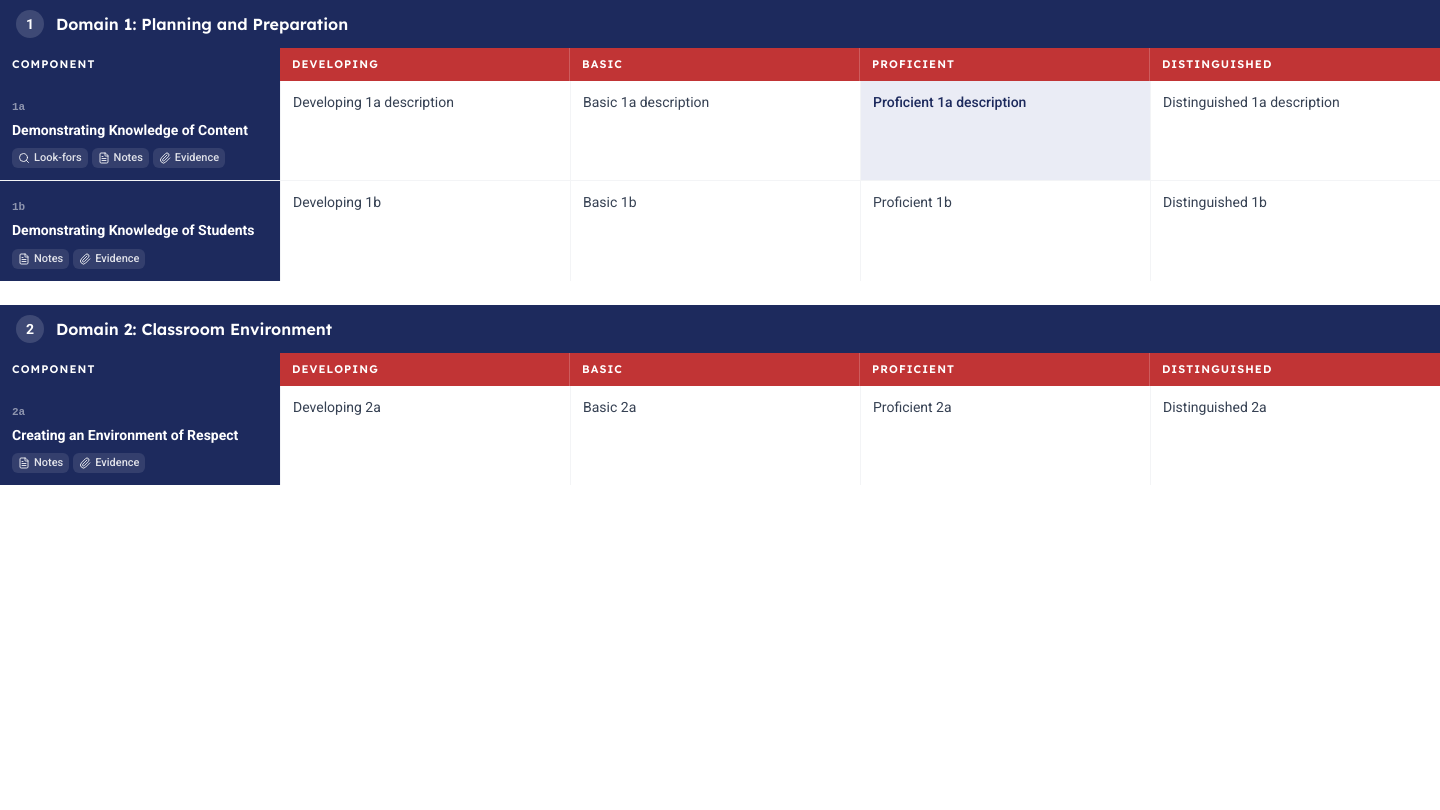
<RubricGrid> edit mode › readOnly exposes no interactive proficiency control and disables look-fors
Expected: the element named "Demonstrating Knowledge of Content proficiency rating: Proficient" is shown, [280, 80, 1439, 180]
Expected: the element named "Demonstrating Knowledge of Students proficiency rating: Not rated" is shown, [280, 181, 1439, 281]
Click the button "Look-fors" at (50, 158), box [12, 148, 88, 168]
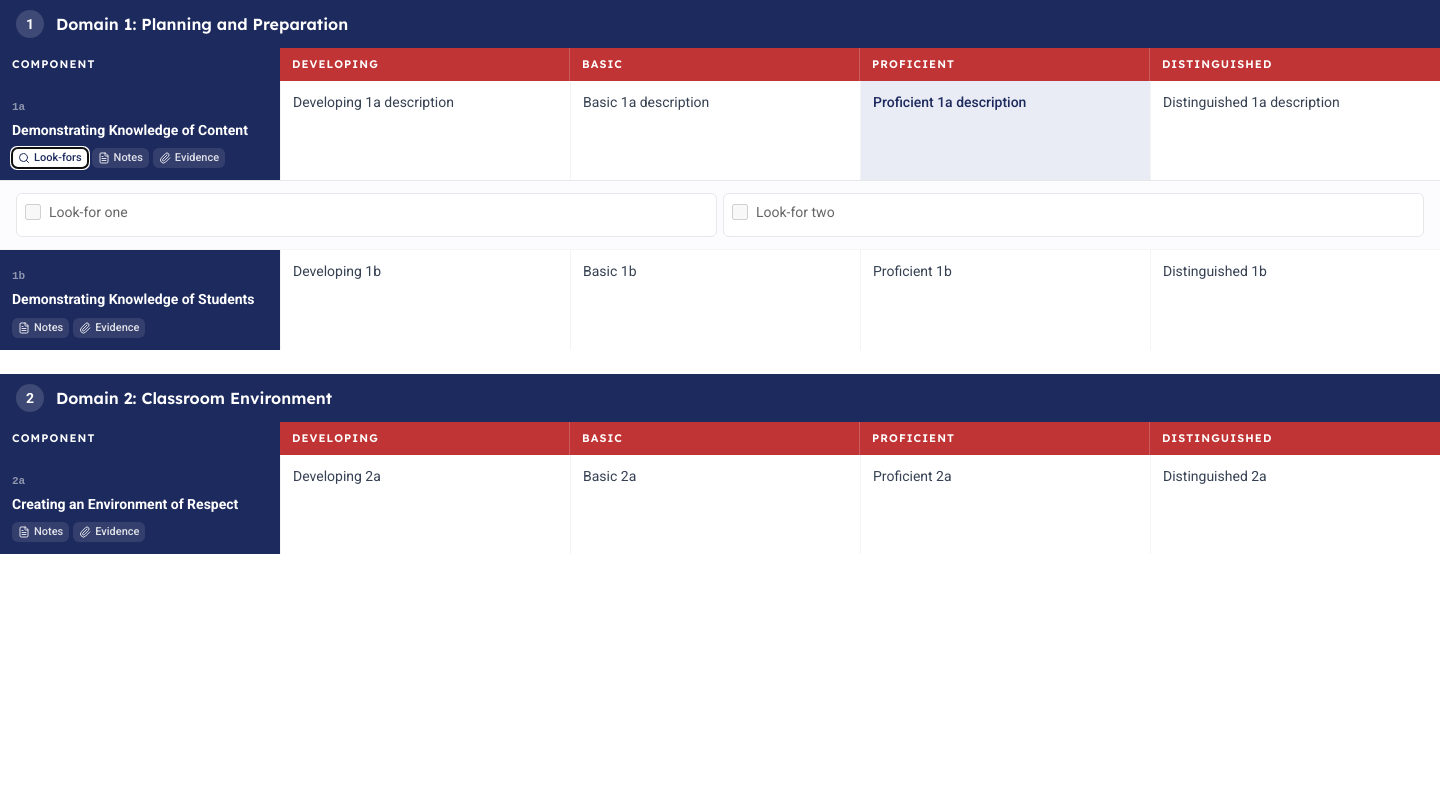
Result: the checkbox labelled "Look-for one" is disabled at [25, 204, 41, 220]
